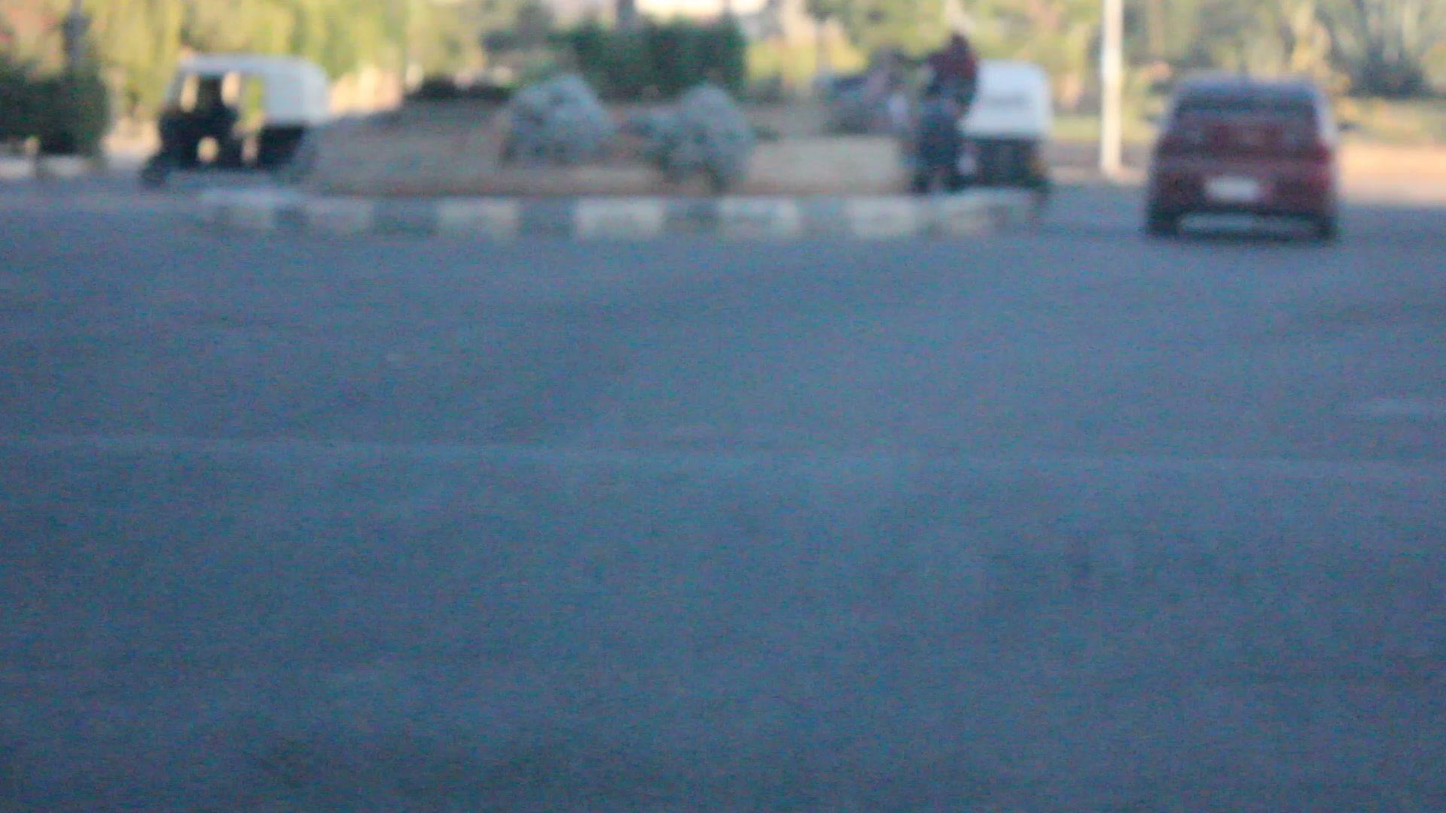Bump: (0, 429, 1445, 695)
